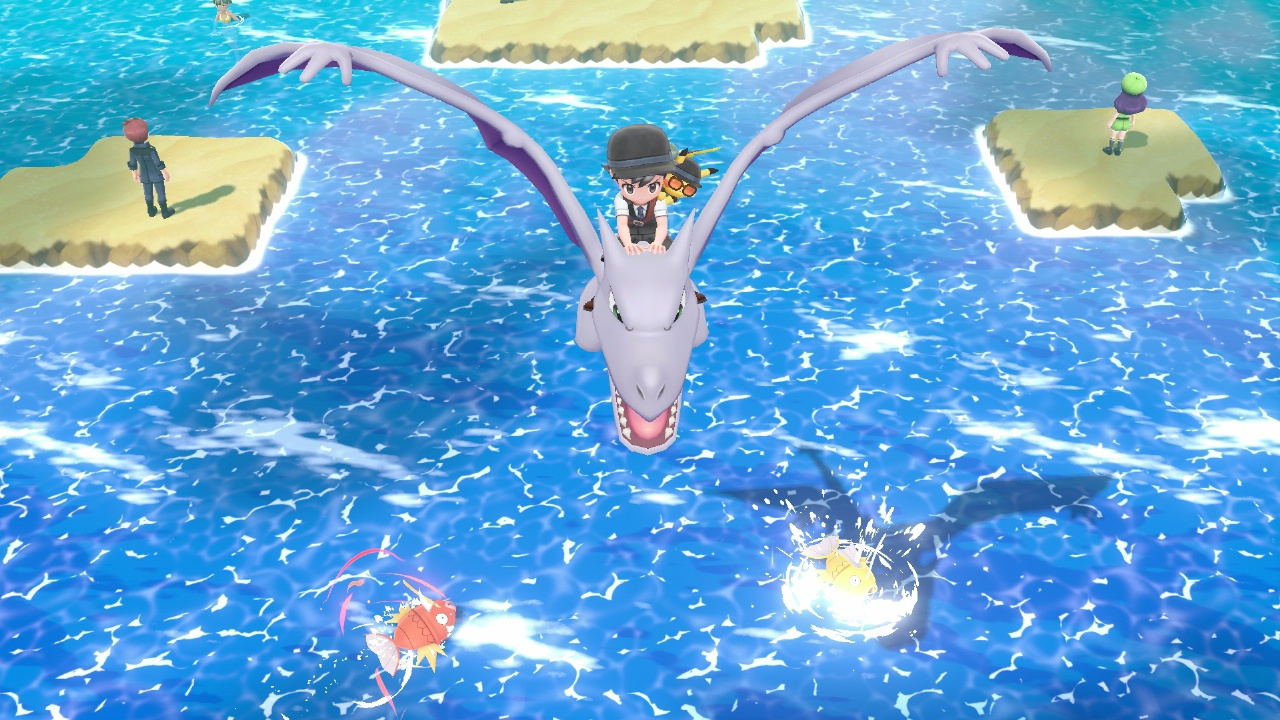Golden: (828, 548, 879, 600)
